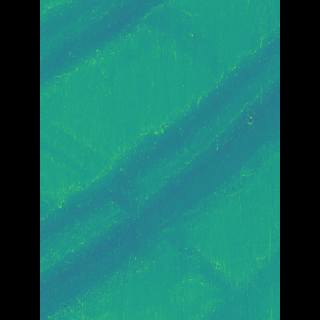Loch: (69, 24, 248, 320), (70, 0, 165, 105)
